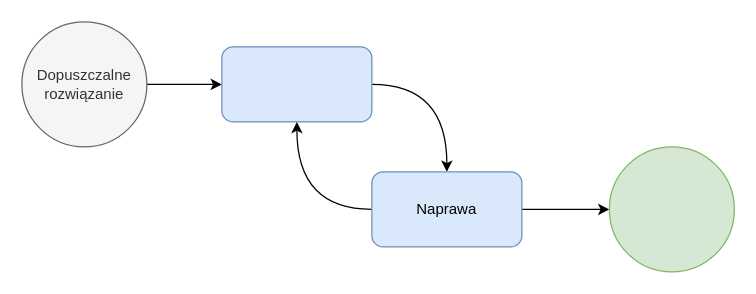
The diagram is 756 pixels wide and 294 high, and some of its shapes have lost their labels. Each missing label, with the centre of its shape:
"Częściowe zniszczenie" belongs at point (296, 84).
"Rozwiązanie" belongs at point (671, 209).
